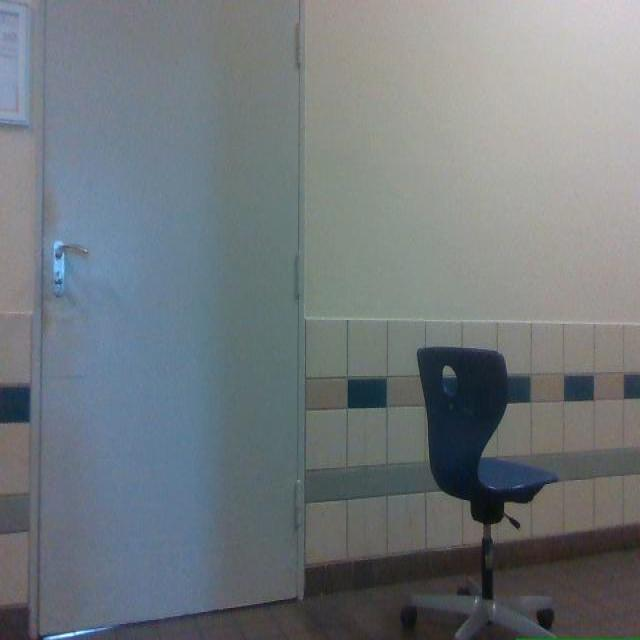objects: (401, 347, 556, 639)
